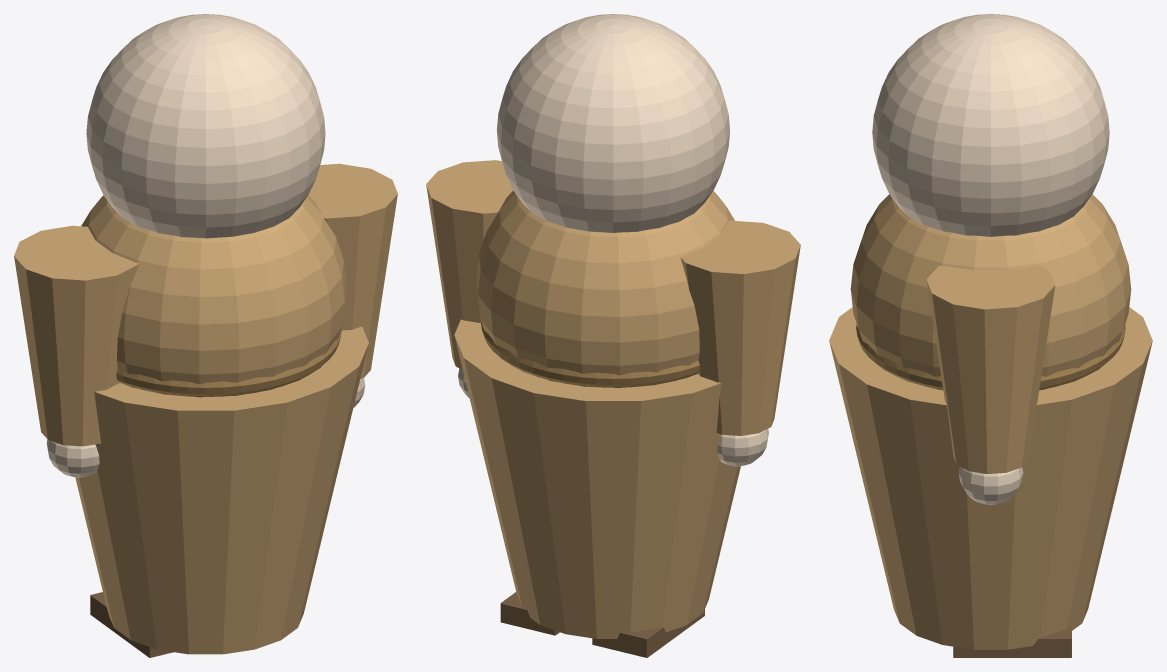
The model's file is chibi_monk.glb.
3 views of the same model, side by side, from view 1: azimuth 30°, elevation 25°; view 2: azimuth 150°, elevation 25°; view 3: azimuth 270°, elevation 25° (orthographic). The views are drawn at different scales.
Parts seen in each view (by area): view 1: chibi_monk; view 2: chibi_monk; view 3: chibi_monk.
Part boxes in pixels (x1=…): chibi_monk: x1=14, y1=14, x2=397, y2=657; chibi_monk: x1=426, y1=14, x2=800, y2=657; chibi_monk: x1=829, y1=14, x2=1152, y2=657.
Bounding box in the file's own units: 0.7788 × 1.22 × 0.6.
